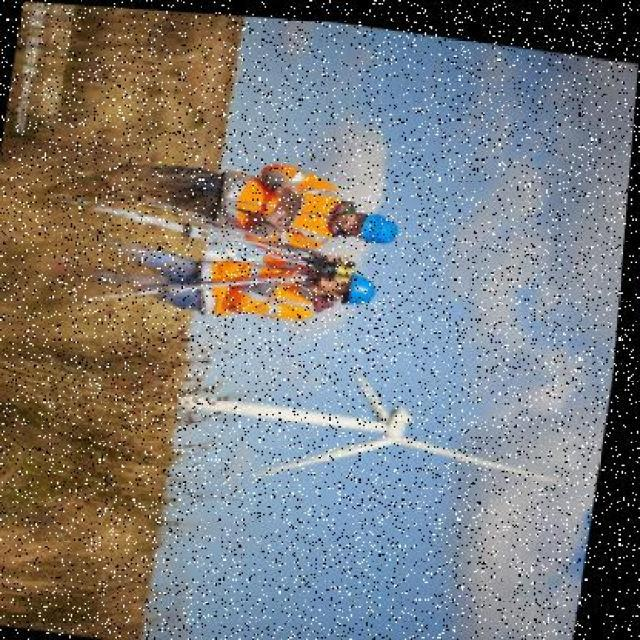helmet: (358, 206, 406, 244), (339, 263, 383, 303)
vest: (214, 151, 354, 244), (188, 245, 320, 321)
